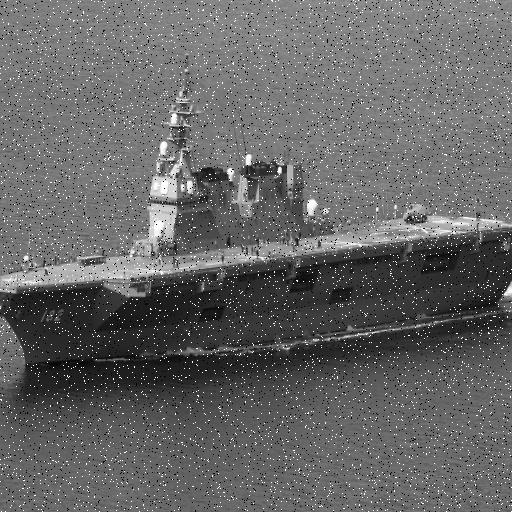Portanaves: (1, 52, 512, 375)
